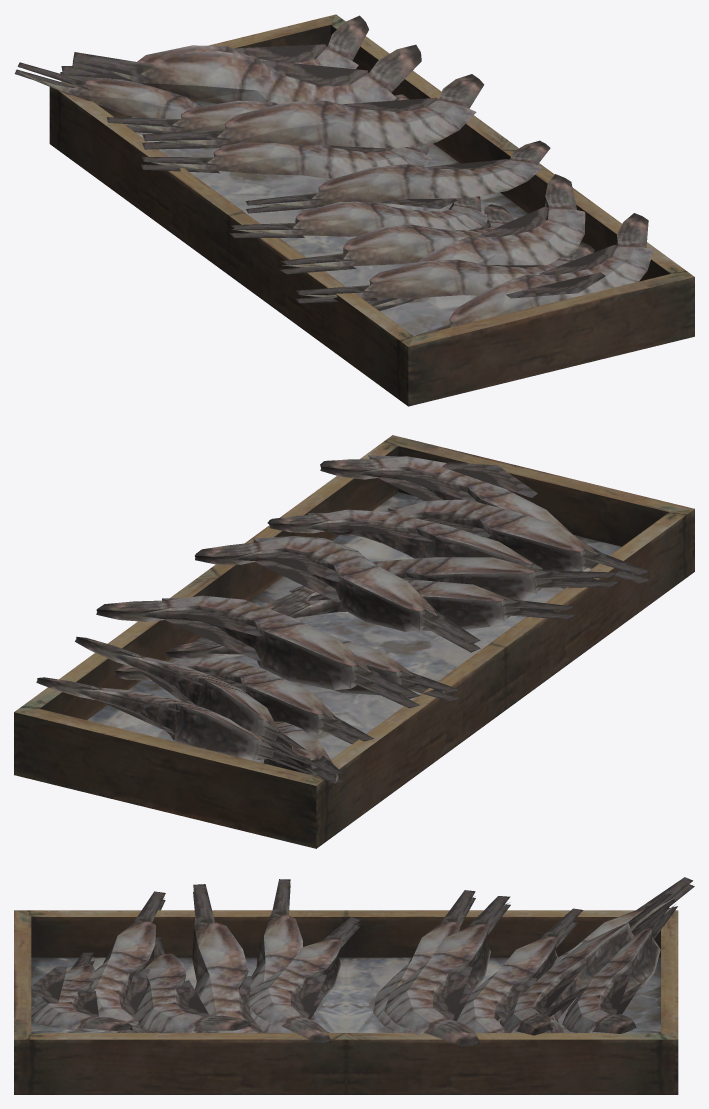
Rendered from bg_lut_mawport_storeprop12_sm_artree.FBX.
3 views of the same model, one above another, from view 1: azimuth 30°, elevation 25°; view 2: azimuth 150°, elevation 25°; view 3: azimuth 270°, elevation 25° (orthographic). The views are drawn at different scales.
Visible parts, largest first — view 1: bg_lut_mawport_storeprop12_sm_artree; view 2: bg_lut_mawport_storeprop12_sm_artree; view 3: bg_lut_mawport_storeprop12_sm_artree.
Boxes of the visible parts, left/top/right/bottom form: bg_lut_mawport_storeprop12_sm_artree: left=14, top=14, right=694, bottom=406; bg_lut_mawport_storeprop12_sm_artree: left=14, top=435, right=694, bottom=848; bg_lut_mawport_storeprop12_sm_artree: left=14, top=877, right=694, bottom=1094.
Bounding box in the file's own units: 46.6 × 11.44 × 84.32.
